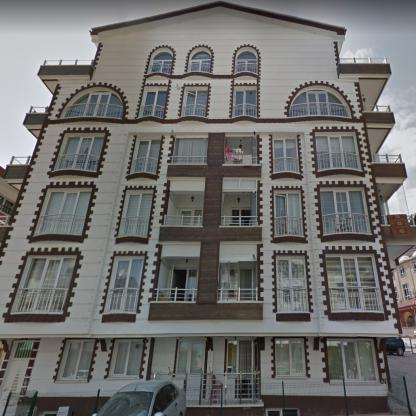door: (0, 340, 33, 406), (187, 339, 205, 400)
window: (14, 257, 76, 313), (325, 255, 383, 312), (38, 191, 92, 235), (327, 339, 379, 382), (321, 189, 368, 234), (108, 257, 144, 312), (276, 257, 308, 312), (57, 135, 104, 171), (290, 90, 348, 118), (315, 135, 360, 171), (57, 340, 94, 381), (66, 92, 123, 118), (122, 192, 152, 236), (274, 192, 303, 237), (110, 340, 143, 378), (275, 337, 306, 376), (132, 138, 161, 174), (172, 136, 208, 164), (273, 139, 299, 173), (140, 89, 168, 118), (184, 89, 208, 117), (234, 88, 256, 117), (219, 260, 238, 288), (151, 52, 173, 75), (236, 51, 258, 74), (176, 340, 190, 376), (190, 50, 211, 72), (396, 184, 410, 216), (227, 339, 238, 377), (178, 209, 202, 225), (376, 184, 385, 224), (186, 268, 198, 289), (266, 408, 299, 415), (230, 209, 240, 226), (251, 192, 256, 226), (402, 283, 410, 300), (395, 286, 399, 302), (399, 266, 405, 276), (412, 261, 416, 272), (392, 272, 394, 278)
